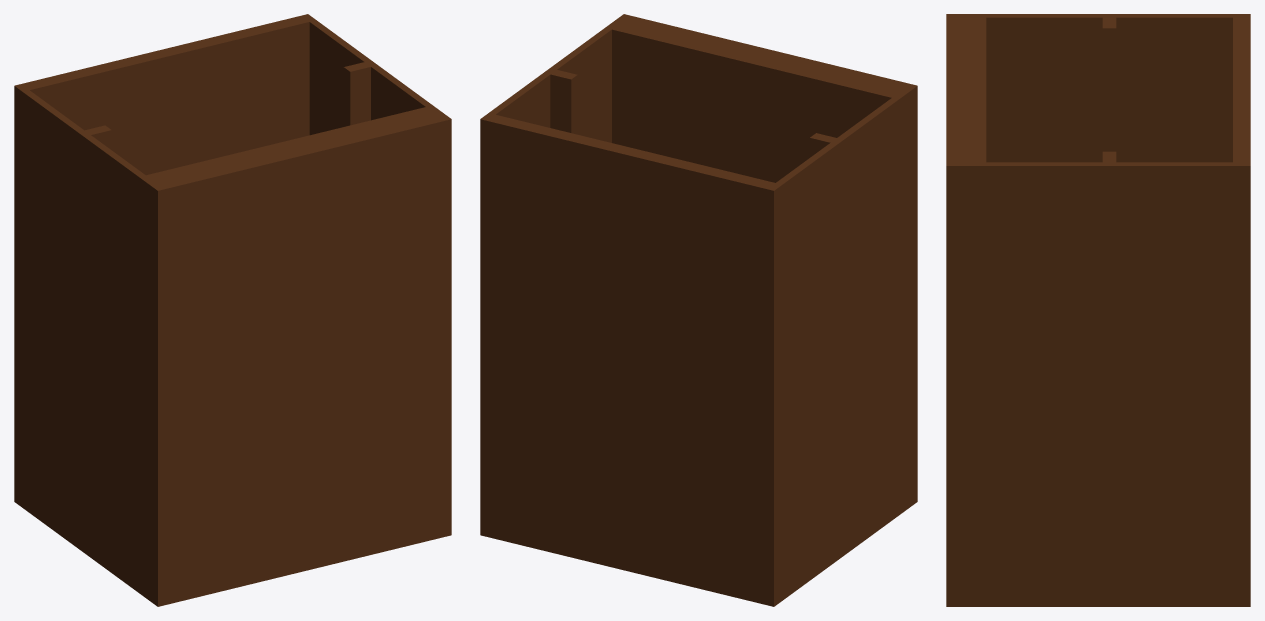
File: cabinet_body.obj
The picture shows the model from 3 angles, left to right: view 1: azimuth 30°, elevation 25°; view 2: azimuth 150°, elevation 25°; view 3: azimuth 270°, elevation 25°; orthographic projection. The views are drawn at different scales.
Visible parts, largest first — view 1: cabinet_body; view 2: cabinet_body; view 3: cabinet_body.
Boxes of the visible parts, x1,y1,x2,y2 form: cabinet_body: (14,14,451,606); cabinet_body: (480,14,917,606); cabinet_body: (946,14,1250,606).
Bounding box in the file's own units: 0.17 × 0.23 × 0.144.
